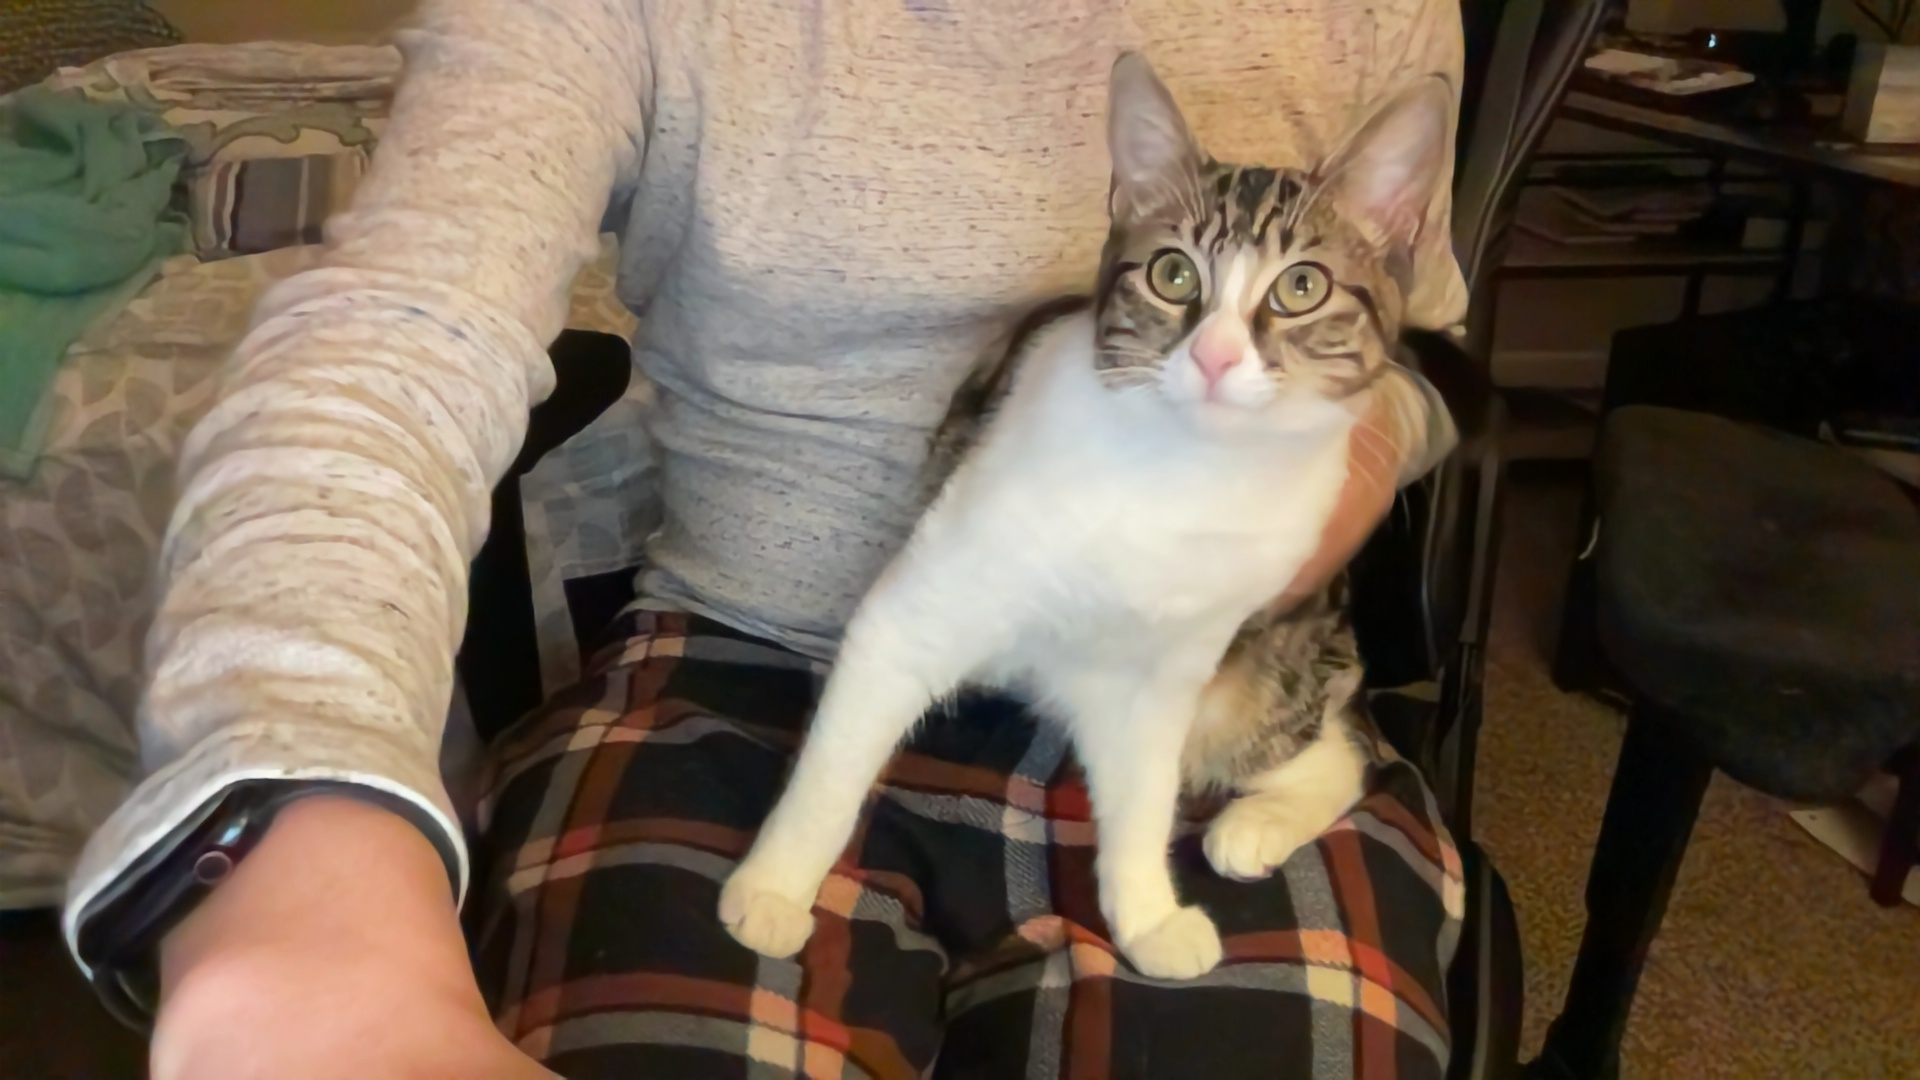cat: (719, 41, 1429, 990)
